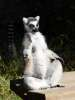cat: (22, 15, 62, 91)
